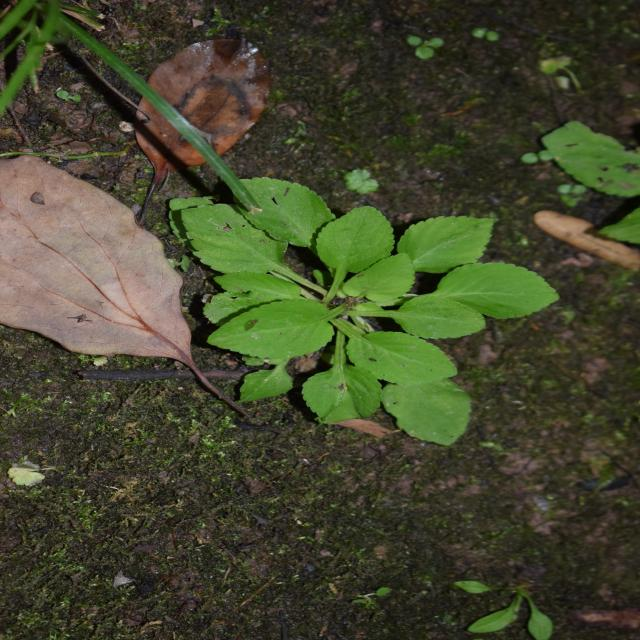Viola: (195, 85, 428, 440)
